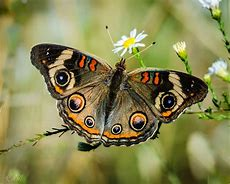insect: (29, 42, 207, 146)
